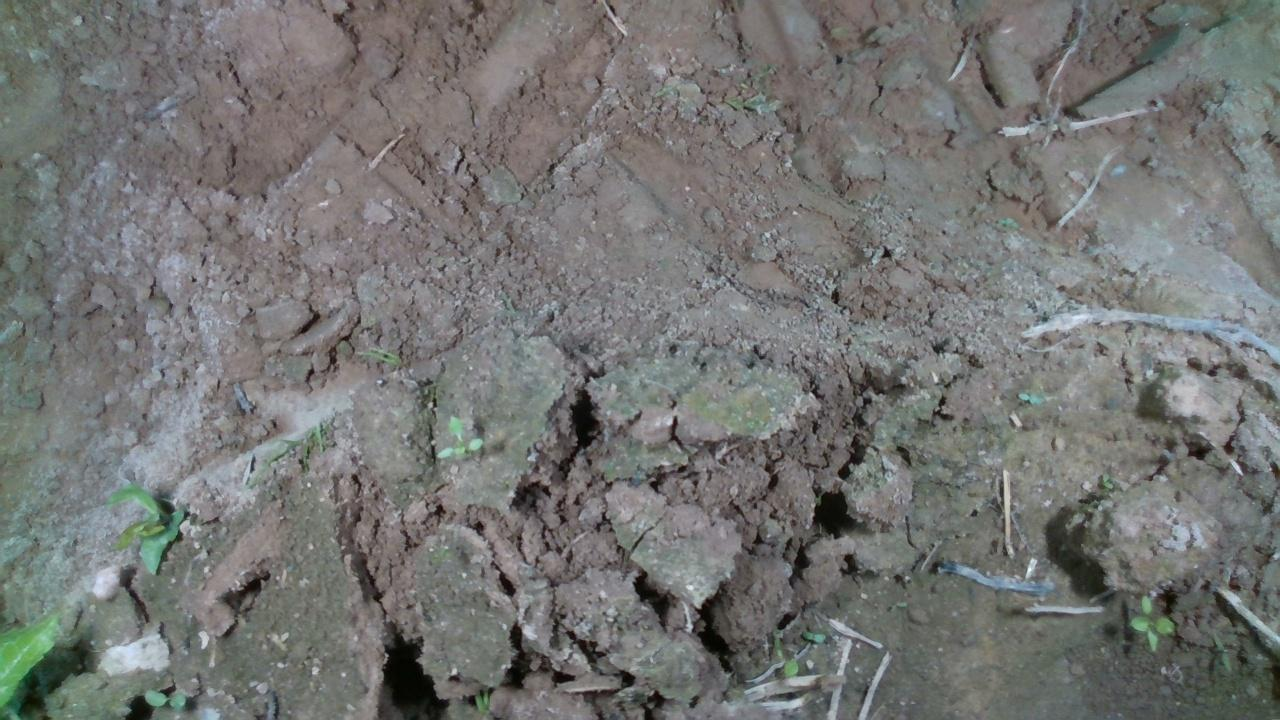weed: (1125, 591, 1175, 654), (142, 687, 187, 710), (1210, 629, 1232, 675), (800, 629, 826, 644)
